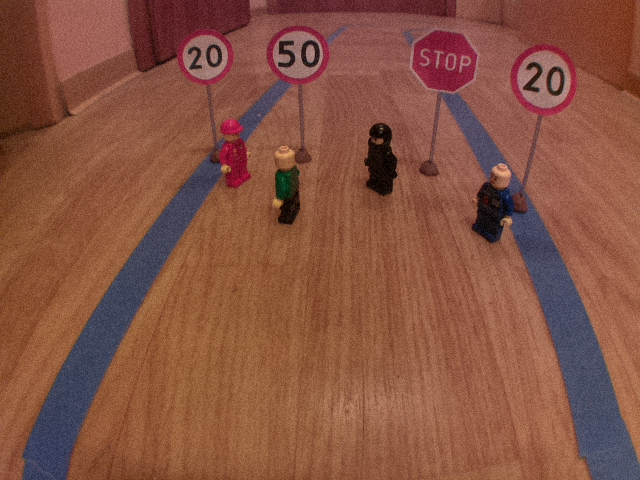LEGO_person: (467, 161, 517, 247), (268, 144, 307, 228), (216, 117, 255, 191)
ogr_20: (507, 42, 583, 117), (174, 26, 237, 87)
ogr_50: (263, 22, 334, 86)
stop: (406, 25, 483, 97)
